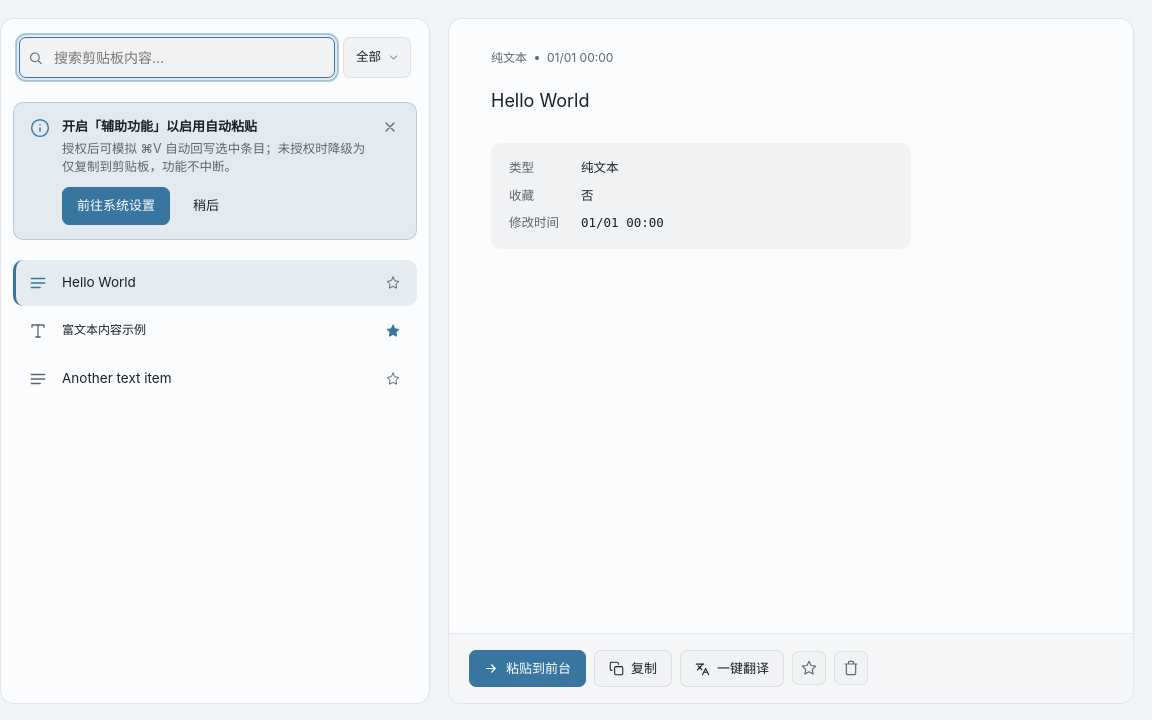
clipboard-page › clipboard-page: 类型筛选选 richtext 后只剩 richtext 条目
Note: Act：展开类型筛选下拉并选 richtext（自定义 Select：点 trigger 再点选项）
Click the button with aria-label "类型筛选". click: {"x": 377, "y": 58}
box: [343, 37, 411, 78]
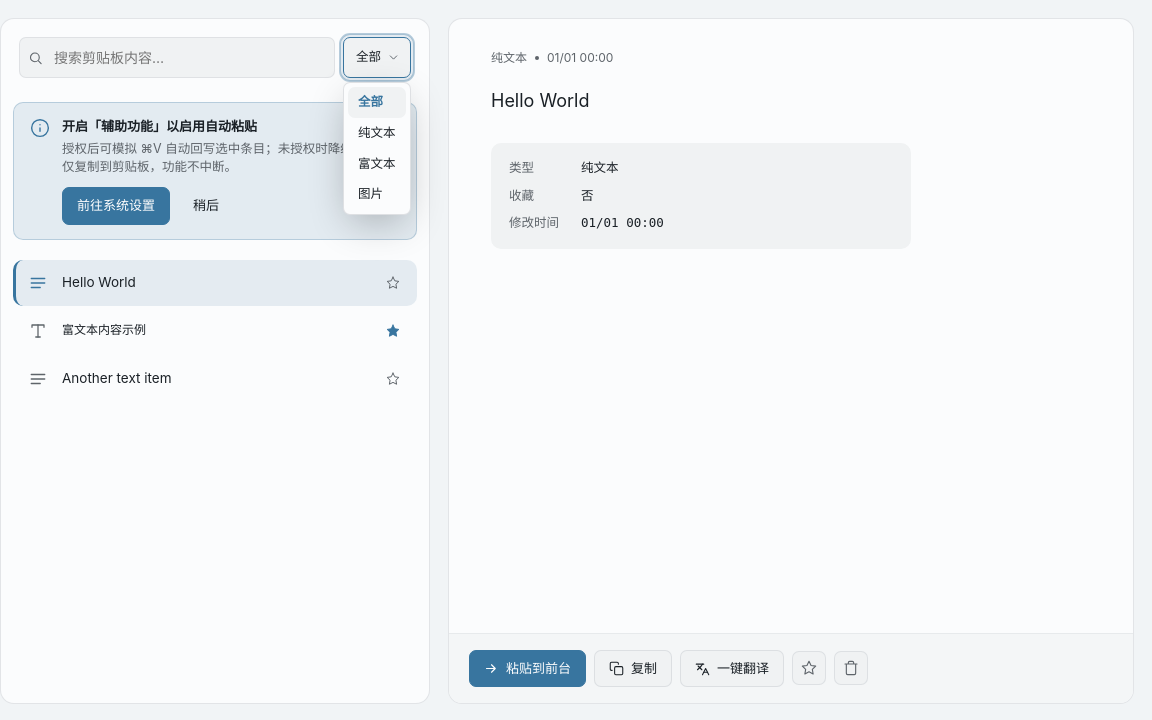
Click the option "富文本". click: {"x": 377, "y": 163}
box: [358, 156, 396, 170]
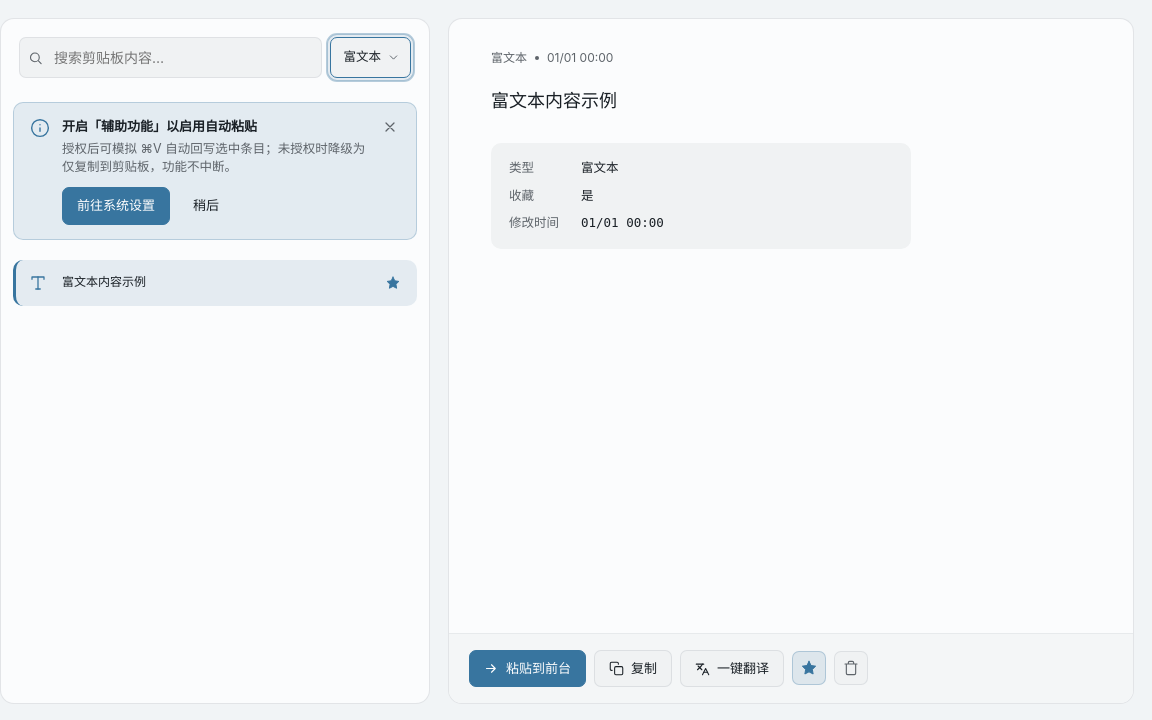
Now the option "Hello World" is gone
Now the option "Another text item" is gone
